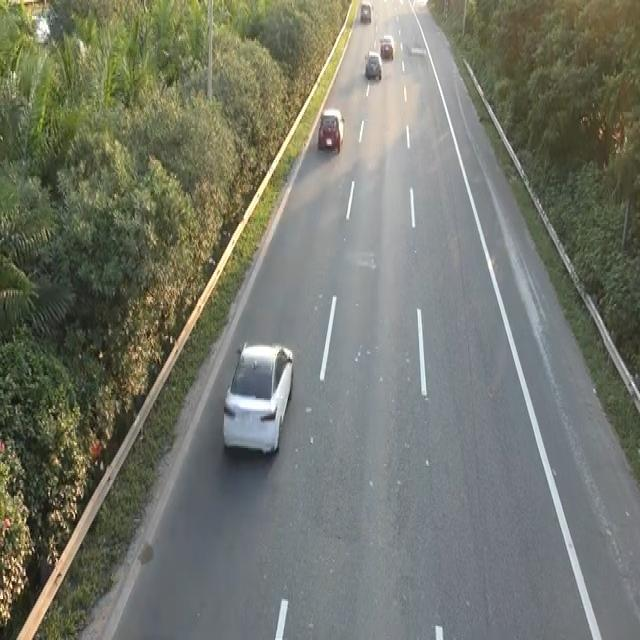bus: (220, 336, 297, 464), (316, 105, 344, 153)
